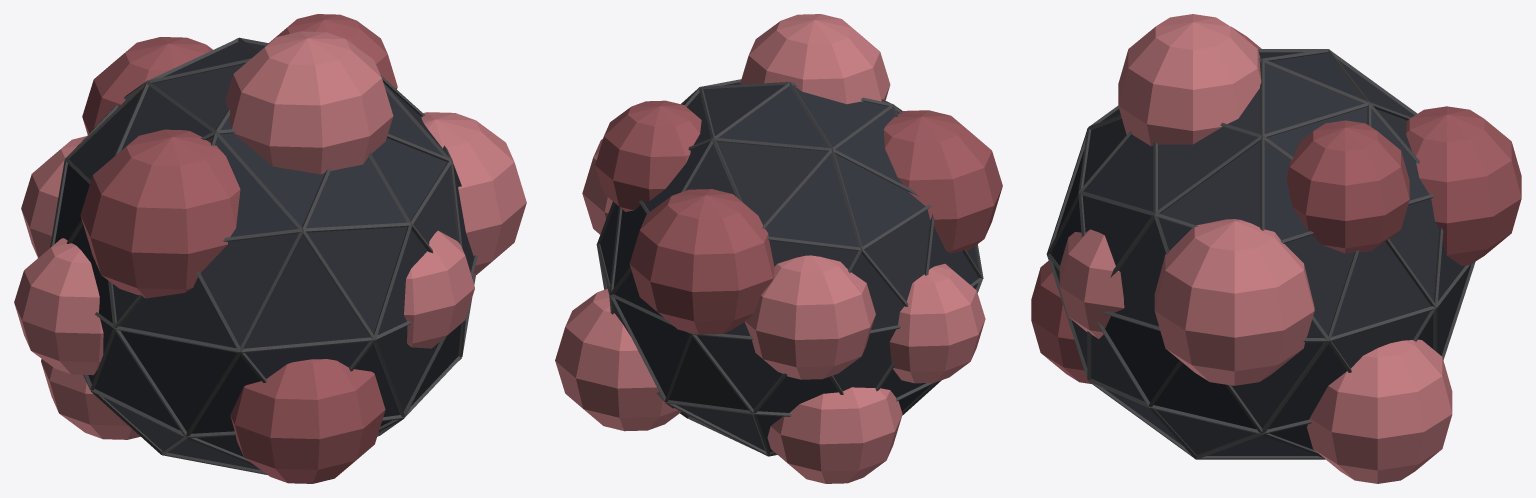
Rendered from nucleus_d_assembled.obj.
3 renders of one model, left to right at view 1: azimuth 30°, elevation 25°; view 2: azimuth 150°, elevation 25°; view 3: azimuth 270°, elevation 25°, orthographic. The views are drawn at different scales.
Bounding box in the file's own units: 1.13 × 1.03 × 1.06.
